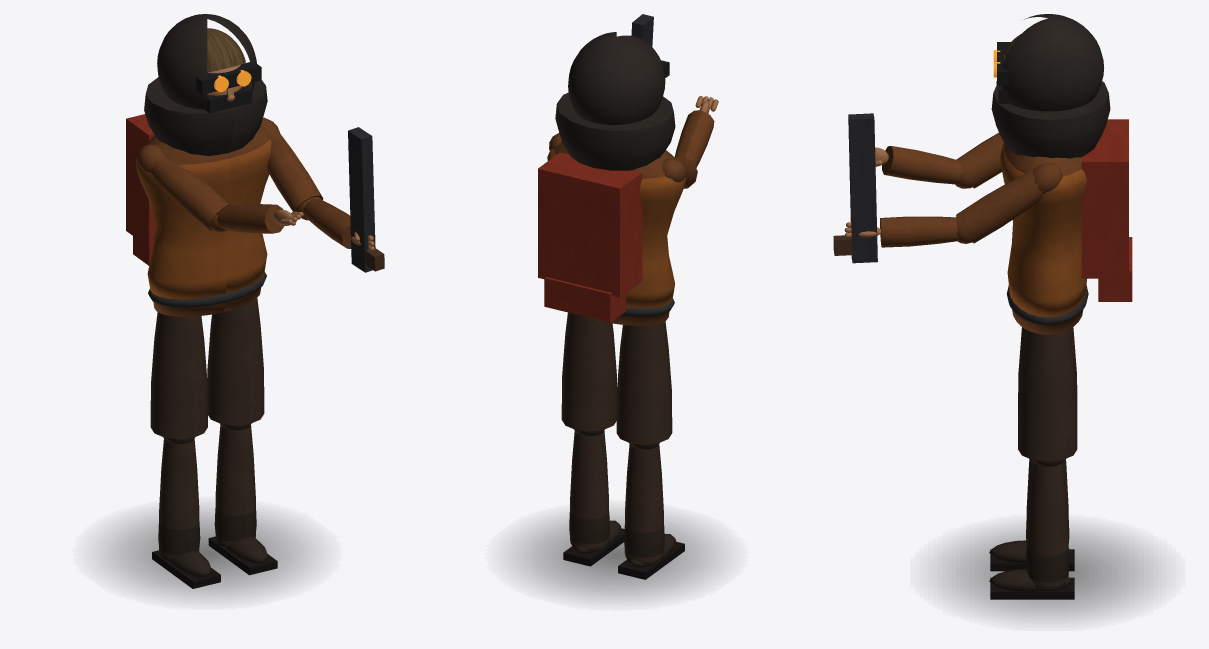
The model's file is enemy_pyro.glb.
The picture shows the model from 3 angles, left to right: view 1: azimuth 30°, elevation 25°; view 2: azimuth 150°, elevation 25°; view 3: azimuth 270°, elevation 25°; orthographic projection. The views are drawn at different scales.
Parts seen in each view (by area): view 1: chest, head, object 11, legL, legR, shinR, shinL, foreR, armL, armR, foreL; view 2: chest, head, object 11, legL, legR, shinL, shinR, foreL, armL, foreR; view 3: chest, head, object 11, legR, foreR, shinR, armR, foreL, shinL, armL.
Boxes of the visible parts, bbox=[...] form: chest: bbox=[126, 114, 271, 316]; head: bbox=[144, 14, 267, 155]; object 11: bbox=[99, 507, 315, 598]; legL: bbox=[150, 312, 207, 439]; legR: bbox=[207, 298, 264, 425]; shinR: bbox=[208, 423, 277, 575]; shinL: bbox=[152, 437, 220, 588]; foreR: bbox=[296, 127, 384, 272]; armL: bbox=[137, 144, 230, 230]; armR: bbox=[261, 117, 323, 211]; foreL: bbox=[210, 204, 303, 233]; chest: bbox=[538, 142, 686, 325]; head: bbox=[555, 32, 675, 170]; object 11: bbox=[512, 511, 722, 599]; legL: bbox=[616, 321, 672, 444]; legR: bbox=[561, 312, 616, 431]; shinL: bbox=[618, 443, 684, 579]; shinR: bbox=[563, 429, 624, 566]; foreL: bbox=[674, 96, 718, 167]; armL: bbox=[662, 156, 697, 188]; foreR: bbox=[631, 14, 653, 46]; chest: bbox=[1000, 119, 1132, 334]; head: bbox=[991, 14, 1110, 158]; object 11: bbox=[937, 526, 1157, 619]; legR: bbox=[1018, 329, 1077, 461]; foreR: bbox=[833, 113, 971, 263]; shinR: bbox=[989, 459, 1074, 599]; armR: bbox=[956, 162, 1062, 243]; foreL: bbox=[875, 146, 973, 188]; shinL: bbox=[989, 459, 1074, 571]; armL: bbox=[956, 132, 1003, 188].
Bounding box in the file's own units: 0.868 × 1.83 × 1.07.
Materials: 8 (5 with a texture image).
